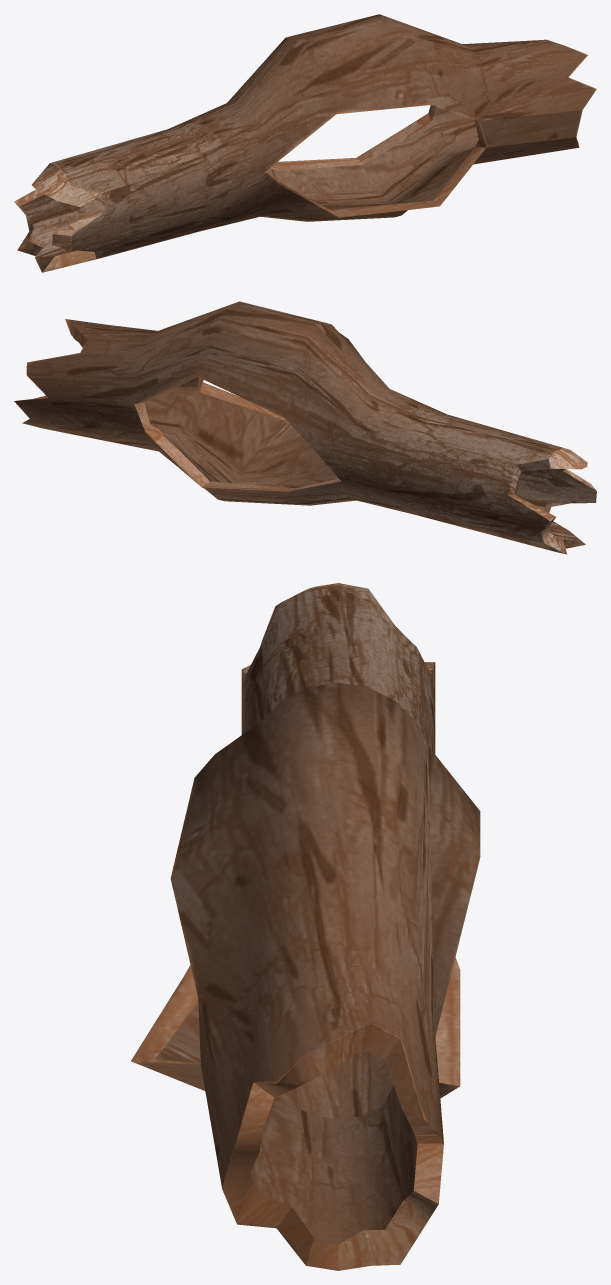
Rendered from Deco_DriftWood.FBX.
3 renders of one model, top to bottom at view 1: azimuth 30°, elevation 25°; view 2: azimuth 150°, elevation 25°; view 3: azimuth 270°, elevation 25°, orthographic. The views are drawn at different scales.
Visible parts, largest first — view 1: Tube001; view 2: Tube001; view 3: Tube001.
Boxes of the visible parts, <box> form: Tube001: <box>14,14,596,272</box>; Tube001: <box>14,301,596,554</box>; Tube001: <box>131,583,480,1270</box>.
Bounding box in the file's own units: 58.58 × 19.91 × 16.29.
